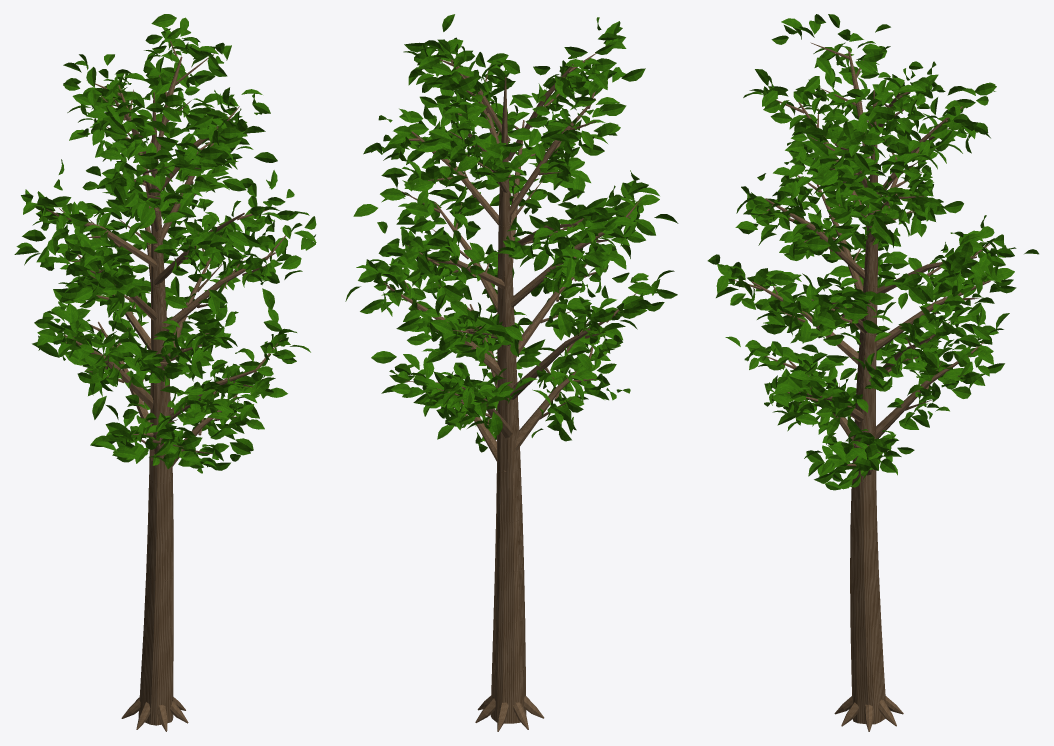
Rendered from TreeBroadleaf.gltf.
3 renders of one model, left to right at view 1: azimuth 30°, elevation 25°; view 2: azimuth 150°, elevation 25°; view 3: azimuth 270°, elevation 25°, orthographic. The views are drawn at different scales.
Parts seen in each view (by area): view 1: TreeBroadleaf_Foliage2, TreeBroadleaf_Foliage1, TreeBroadleaf_Foliage3, TreeBroadleaf_Bark; view 2: TreeBroadleaf_Foliage3, TreeBroadleaf_Foliage2, TreeBroadleaf_Foliage1, TreeBroadleaf_Bark; view 3: TreeBroadleaf_Foliage1, TreeBroadleaf_Foliage2, TreeBroadleaf_Foliage3, TreeBroadleaf_Bark.
Part boxes in pixels (x1,y1,x2,y2): TreeBroadleaf_Foliage2: (23, 17, 310, 473); TreeBroadleaf_Foliage1: (16, 14, 316, 470); TreeBroadleaf_Foliage3: (14, 28, 316, 468); TreeBroadleaf_Bark: (46, 41, 285, 731); TreeBroadleaf_Foliage3: (345, 21, 678, 443); TreeBroadleaf_Foliage2: (358, 17, 674, 441); TreeBroadleaf_Foliage1: (353, 14, 664, 452); TreeBroadleaf_Bark: (384, 53, 642, 731); TreeBroadleaf_Foliage1: (716, 24, 1016, 487); TreeBroadleaf_Foliage2: (725, 14, 1014, 481); TreeBroadleaf_Foliage3: (707, 14, 1038, 490); TreeBroadleaf_Bark: (732, 42, 993, 731).
Bounding box in the file's own units: 7.4 × 16.6 × 7.4.
Materials: 2 (2 with a texture image).
